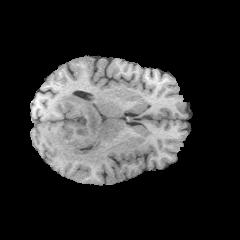glioma: (51, 95, 106, 164)
